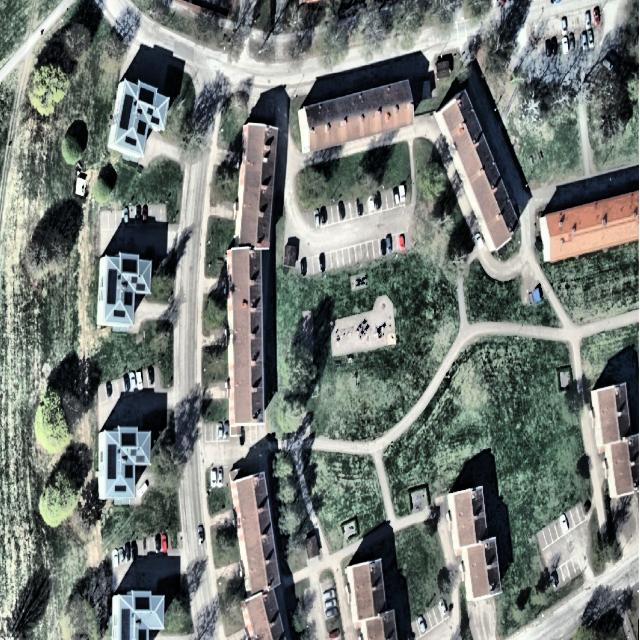roof_pv: (119, 91, 134, 130), (106, 264, 119, 309), (120, 275, 147, 293), (138, 85, 160, 107), (106, 444, 119, 481), (123, 253, 142, 275), (146, 110, 164, 131), (121, 610, 132, 640), (120, 450, 147, 462), (124, 133, 140, 153), (120, 430, 140, 446), (137, 115, 147, 142), (114, 305, 128, 324), (135, 596, 153, 608), (124, 462, 134, 483), (124, 288, 133, 311), (113, 485, 130, 497), (135, 626, 149, 638), (135, 618, 144, 624)
